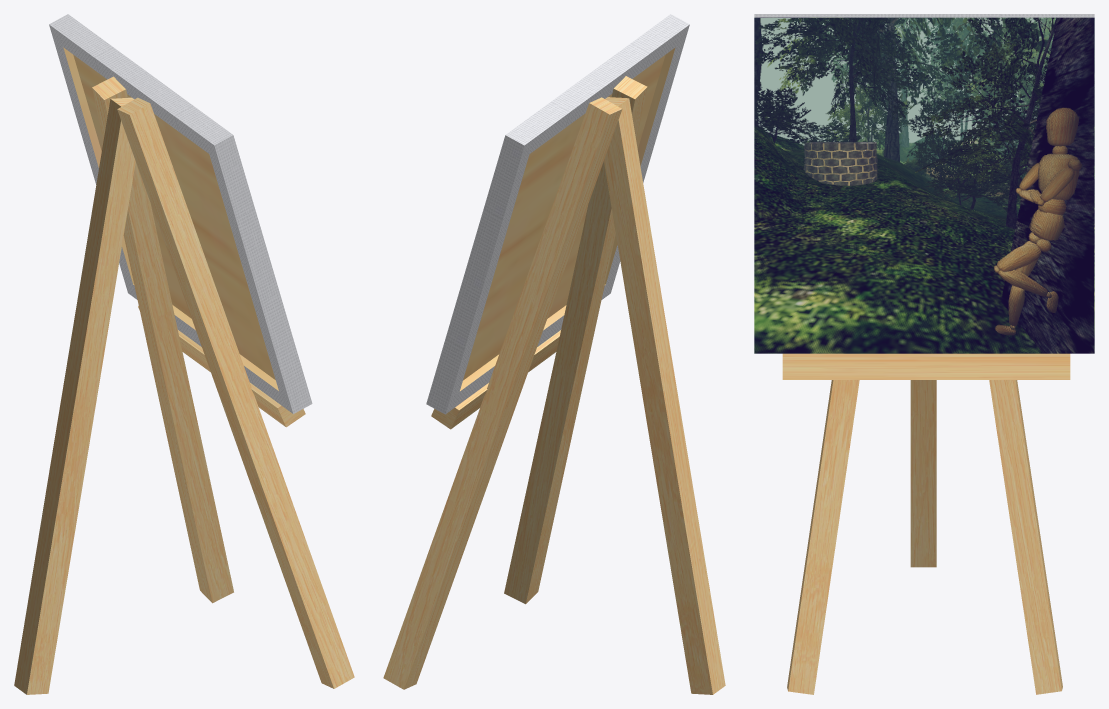
File: painting.gltf
3 views of the same model, side by side, from view 1: azimuth 30°, elevation 25°; view 2: azimuth 150°, elevation 25°; view 3: azimuth 270°, elevation 25° (orthographic). The views are drawn at different scales.
Parts seen in each view (by area): view 1: Cube, Plane; view 2: Cube, Plane; view 3: Plane, Cube.
Part boxes in pixels (x1,y1,x2,y2): Cube: [14, 76, 354, 694]; Plane: [49, 14, 312, 413]; Cube: [383, 76, 725, 694]; Plane: [426, 14, 689, 414]; Plane: [754, 14, 1094, 353]; Cube: [782, 353, 1070, 694].
Bounding box in the file's own units: 0.5879 × 1.25 × 0.6273.
3 materials, 3 textured.
